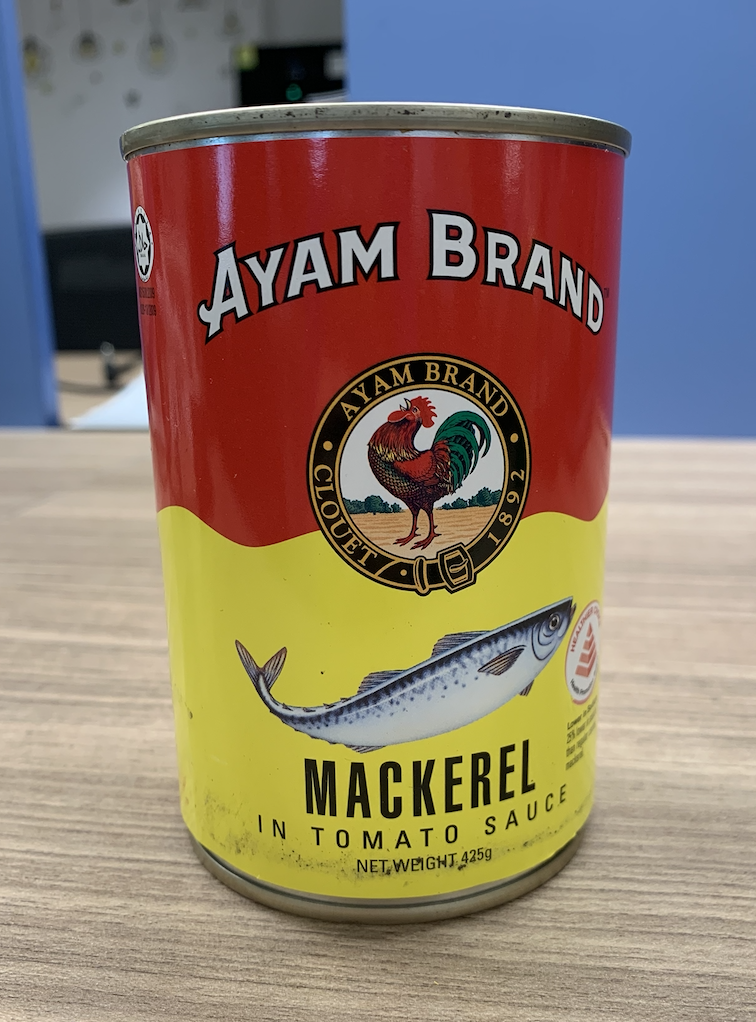sardines_400g-499g: (198, 169, 598, 883)
